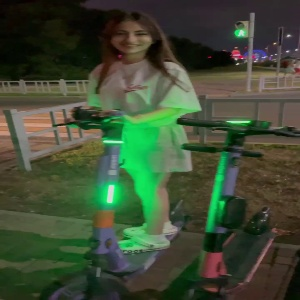human on a scooter: (37, 10, 202, 300)
